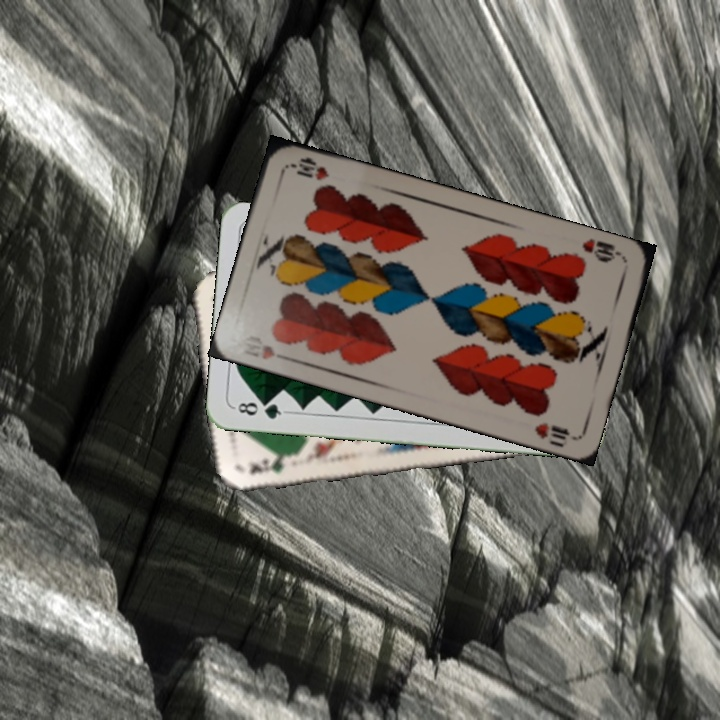G8: (230, 397, 290, 422)
GK: (246, 450, 297, 477)
H10: (578, 234, 626, 265), (257, 341, 294, 364)
